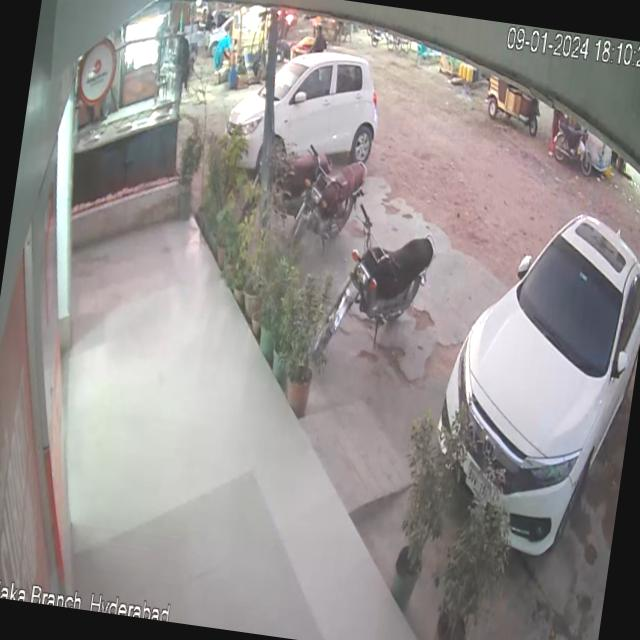Car: (418, 150, 640, 579), (201, 22, 392, 174)
Motorcycle: (312, 188, 452, 376), (294, 143, 376, 249)
